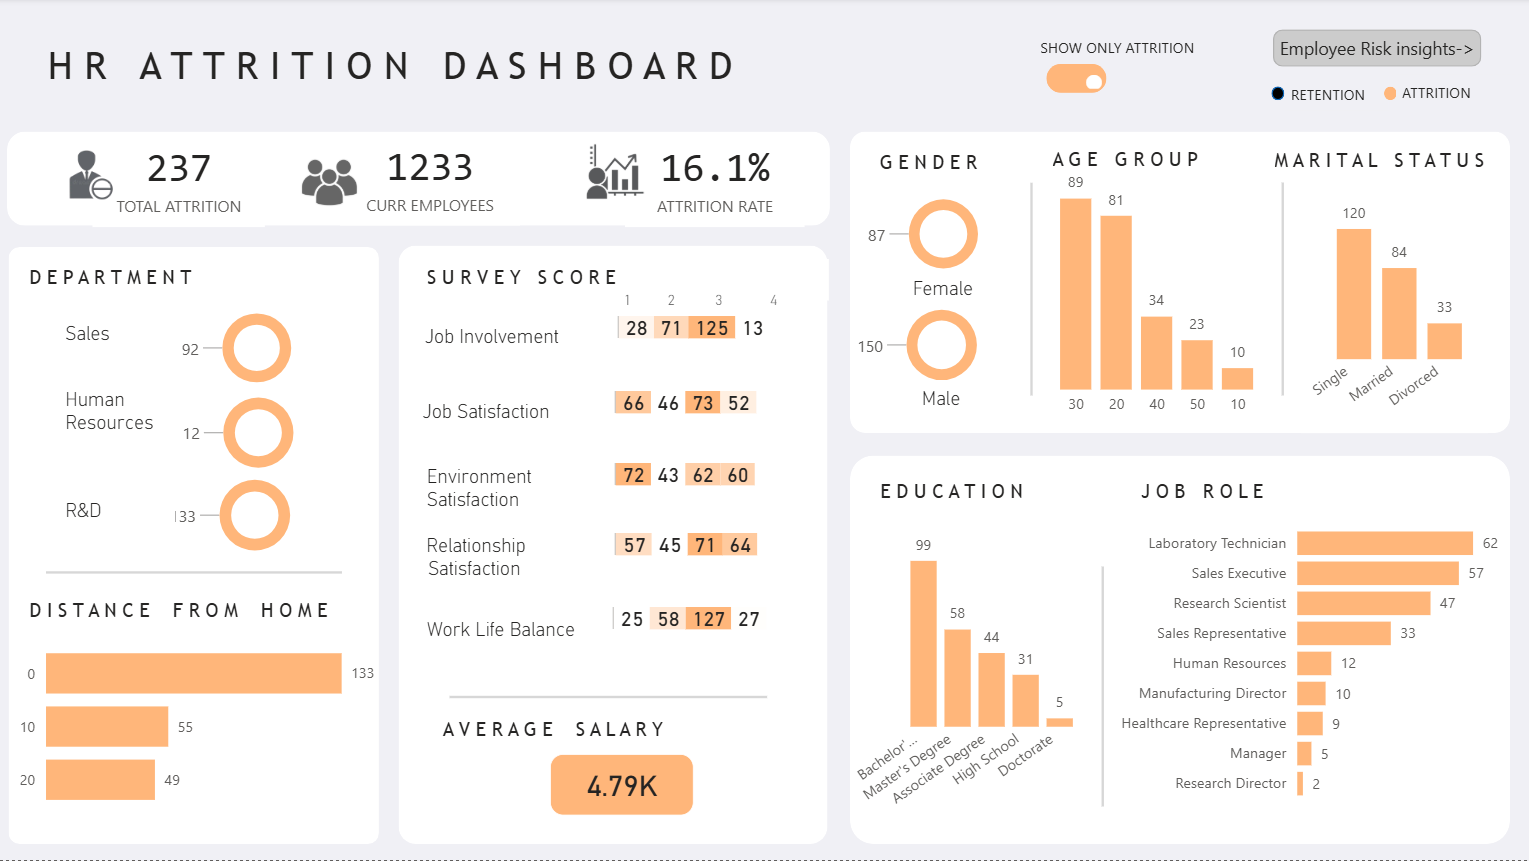

The page's visual inventory and layout, read from the dashboard file:
{"tool":"powerbi","page":{"name":" Overview","canvas":[1280,720],"ordinal":0},"visuals":[{"type":"group","id":"g1","title":"Group 1","box":[1064,63.9,215.5,30.1],"z":0},{"type":"shape","box":[1064,74,10.7,11.5],"z":0,"group":"g1"},{"type":"shape","box":[341.6,203.4,358.3,499.9],"z":0,"group":"g2"},{"type":"donutChart","fields":{"Category":["HR_Data.Attrition"],"Y":["CountNonNull(HR_Data.Employee_No)"]},"box":[147.7,243.1,126.5,85.2],"z":0,"group":"g3"},{"type":"textbox","box":[0,0,807.2,125.9],"z":1000},{"type":"textbox","box":[1075,65.1,86.7,28.9],"z":1000,"group":"g1"},{"type":"shape","box":[15.9,204.7,309.5,498.7],"z":1000,"group":"g2"},{"type":"donutChart","fields":{"Category":["HR_Data.Attrition"],"Y":["CountNonNull(HR_Data.Employee_No)"]},"box":[133.9,310.8,154.1,86.5],"z":1000,"group":"g3"},{"type":"textbox","box":[866.4,25.8,149.8,32.3],"z":2000},{"type":"shape","box":[1157.7,74,10.7,11.5],"z":2000,"group":"g1"},{"type":"donutChart","fields":{"Category":["HR_Data.Attrition"],"Y":["CountNonNull(HR_Data.Employee_No)"]},"box":[128.9,382.2,165.4,86.5],"z":2000,"group":"g3"},{"type":"shape","box":[715.3,386.7,553.9,316.3],"z":2000,"group":"g2"},{"type":"textbox","box":[1167.9,63.9,111.6,29.6],"z":3000,"group":"g1"},{"type":"group","id":"g2","title":"dashboard a","box":[14.2,98.1,1265.4,605.3],"z":3000},{"type":"shape","box":[14.2,107.7,687.4,78.7],"z":3000,"group":"g2"},{"type":"textbox","box":[58.2,260.8,96.4,195.4],"z":3000,"group":"g3"},{"type":"shape","box":[715.8,106.2,553.8,264.4],"z":4000,"group":"g2"},{"type":"bookmarkNavigator","box":[875.4,55.5,50.4,24.5],"z":5000},{"type":"card","fields":{"Values":["HR_Data.Attrition__Rate"]},"box":[85.4,110.7,143.8,77.2],"z":5000,"group":"g2"},{"type":"pageNavigator","box":[1064.5,25.7,174.1,31.8],"z":6000},{"type":"card","fields":{"Values":["HR_Data.CURR EMPLOYEES"]},"box":[292.8,109.2,149.9,77.2],"z":6000,"group":"g2"},{"type":"card","fields":{"Values":["HR_Data.ATTRITION RATE"]},"box":[530.5,110.7,149.9,77.2],"z":7000,"group":"g2"},{"type":"image","box":[486.6,109.2,71.2,68.1],"z":8000,"group":"g2"},{"type":"image","box":[35.4,103.2,98.4,92.4],"z":9000,"group":"g2"},{"type":"image","box":[248.9,113.8,69.7,72.7],"z":10000,"group":"g2"},{"type":"textbox","box":[28.4,214.7,265.6,35.1],"z":11000,"group":"g2"},{"type":"group","id":"g3","title":"Group 2","box":[58.2,243.1,236.8,223.1],"z":12000,"group":"g2"},{"type":"shape","box":[47.2,469.7,247.2,12.4],"z":13000,"group":"g2"},{"type":"textbox","box":[27.8,492.3,271,42.4],"z":14000,"group":"g2"},{"type":"clusteredBarChart","fields":{"Category":["HR_Data.DistanceFromHome (bins)"],"Series":["HR_Data.Attrition"],"Y":["CountNonNull(HR_Data.Employee_No)"]},"box":[15.9,512.9,310.7,177.9],"z":15000,"group":"g2"},{"type":"pivotTable","fields":{"Values":["CountNonNull(HR_Data.Employee_No)"],"Rows":["HR_Data.Attrition"],"Columns":["HR_Data.JobInvolvement"]},"box":[452.7,234.7,234.3,72.7],"z":16000,"group":"g2"},{"type":"pivotTable","fields":{"Values":["CountNonNull(HR_Data.Employee_No)"],"Rows":["HR_Data.Attrition"],"Columns":["HR_Data.JobSatisfaction"]},"box":[453.3,297,204.4,57.5],"z":17000,"group":"g2"},{"type":"pivotTable","fields":{"Values":["CountNonNull(HR_Data.Employee_No)"],"Rows":["HR_Data.Attrition"],"Columns":["HR_Data.RelationshipSatisfaction"]},"box":[453.3,416.6,215,57.5],"z":18000,"group":"g2"},{"type":"pivotTable","fields":{"Values":["CountNonNull(HR_Data.Employee_No)"],"Rows":["HR_Data.Attrition"],"Columns":["HR_Data.WorkLifeBalance"]},"box":[451.8,477.2,266.5,56],"z":19000,"group":"g2"},{"type":"textbox","box":[423,354.5,162,50],"z":20000,"group":"g2"},{"type":"pivotTable","fields":{"Values":["CountNonNull(HR_Data.Employee_No)"],"Rows":["HR_Data.Attrition"],"Columns":["HR_Data.RelationshipSatisfaction"]},"box":[402.6,410.1,285.7,87.7],"z":21000,"group":"g2"},{"type":"pivotTable","fields":{"Values":["CountNonNull(HR_Data.Employee_No)"],"Rows":["HR_Data.Attrition"],"Columns":["HR_Data.EnvironmentSatisfaction"]},"box":[403.7,346.7,306.8,85.8],"z":22000,"group":"g2"},{"type":"textbox","box":[359.4,380.3,162,50],"z":23000,"group":"g2"},{"type":"pivotTable","fields":{"Values":["CountNonNull(HR_Data.Employee_No)"],"Rows":["HR_Data.Attrition"],"Columns":["HR_Data.EnvironmentSatisfaction"]},"box":[453.3,354,245.3,57.5],"z":24000,"group":"g2"},{"type":"pivotTable","fields":{"Values":["CountNonNull(HR_Data.Employee_No)"],"Rows":["HR_Data.Attrition"],"Columns":["HR_Data.JobSatisfaction"]},"box":[399.8,289.6,291.9,82.7],"z":25000,"group":"g2"},{"type":"pivotTable","fields":{"Values":["CountNonNull(HR_Data.Employee_No)"],"Rows":["HR_Data.Attrition"],"Columns":["HR_Data.JobInvolvement"]},"box":[398.6,223.2,290.7,91.5],"z":26000,"group":"g2"},{"type":"textbox","box":[359.4,215.2,340.7,34.8],"z":27000,"group":"g2"},{"type":"textbox","box":[344.3,244,162,53],"z":28000,"group":"g2"},{"type":"textbox","box":[344.3,437.8,162,54.5],"z":29000,"group":"g2"},{"type":"pivotTable","fields":{"Values":["CountNonNull(HR_Data.Employee_No)"],"Rows":["HR_Data.Attrition"],"Columns":["HR_Data.WorkLifeBalance"]},"box":[402.6,471.5,295.7,82.7],"z":30000,"group":"g2"},{"type":"textbox","box":[342.8,306.1,178.7,74.2],"z":31000,"group":"g2"},{"type":"textbox","box":[359.4,507.5,145.4,48.5],"z":32000,"group":"g2"},{"type":"shape","box":[384.2,573.1,265.6,15],"z":33000,"group":"g2"},{"type":"textbox","box":[504.8,233.4,225.6,28.8],"z":34000,"group":"g2"},{"type":"textbox","box":[945.6,402.4,196.7,32.6],"z":35000,"group":"g2"},{"type":"barChart","fields":{"Category":["HR_Data.JobRole"],"Y":["CountNonNull(HR_Data.Employee_No)"],"Series":["HR_Data.Attrition"]},"box":[920.4,418.1,351.2,273.7],"z":36000,"group":"g2"},{"type":"textbox","box":[733.4,98.6,115.1,57.5],"z":37000,"group":"g2"},{"type":"donutChart","fields":{"Y":["CountNonNull(HR_Data.Employee_No)"],"Category":["HR_Data.Attrition"]},"box":[719.6,154.8,160.4,81.4],"z":38000,"group":"g2"},{"type":"textbox","box":[771,220.6,83.3,42.4],"z":39000,"group":"g2"},{"type":"donutChart","fields":{"Y":["CountNonNull(HR_Data.Employee_No)"],"Category":["HR_Data.Attrition"]},"box":[732.1,244.1,131.6,83.9],"z":40000,"group":"g2"},{"type":"textbox","box":[778.5,299.8,96.5,56.4],"z":41000,"group":"g2"},{"type":"shape","box":[859.9,148.8,16.3,189.2],"z":42000,"group":"g2"},{"type":"textbox","box":[882.7,98.1,141.7,52.9],"z":43000,"group":"g2"},{"type":"columnChart","fields":{"Category":["HR_Data.Age (bins)"],"Y":["CountNonNull(HR_Data.Employee_No)"],"Series":["HR_Data.Attrition"]},"box":[880.2,128.3,196.7,234.3],"z":44000,"group":"g2"},{"type":"shape","box":[1072.9,158.9,13.8,176.7],"z":45000,"group":"g2"},{"type":"columnChart","fields":{"Category":["HR_Data.MaritalStatus"],"Y":["CountNonNull(HR_Data.Employee_No)"],"Series":["HR_Data.Attrition"]},"box":[1098.4,140.6,140.3,226.8],"z":47000,"group":"g2"},{"type":"textbox","box":[719.6,400.1,214.2,37.6],"z":48000,"group":"g2"},{"type":"columnChart","fields":{"Category":["HR_Data.Education"],"Y":["CountNonNull(HR_Data.Employee_No)"],"Series":["HR_Data.Attrition"]},"box":[749.8,412.9,160.5,274.1],"z":49000,"group":"g2"},{"type":"shape","box":[917.9,431,15.1,234.7],"z":50000,"group":"g2"},{"type":"textbox","box":[359.2,574.3,283.2,51.4],"z":51000,"group":"g2"},{"type":"card","fields":{"Values":["Avg(HR_Data.MonthlyIncome)"]},"box":[395.5,630.7,109,51.4],"z":52000,"group":"g2"},{"type":"card","fields":{"Values":["Avg(HR_Data.MonthlyIncome)"]},"box":[529.6,630.7,120.3,51.4],"z":53000,"group":"g2"},{"type":"textbox","box":[1067.9,117,211.7,34],"z":53500,"group":"g2"}]}

Visuals, with their boxes in screenshot pixels (x1, y1, x2, y2), scaled from the page's 1280x720 canvas onto the 1529x861 screenshot:
"Group 1" group: l=1271, t=76, r=1528, b=112
shape: l=1271, t=88, r=1284, b=102
shape: l=408, t=243, r=836, b=841
donutChart - HR_Data.Attrition x CountNonNull(HR_Data.Employee_No): l=176, t=291, r=328, b=393
textbox: l=0, t=0, r=964, b=151
textbox: l=1284, t=78, r=1388, b=112
shape: l=19, t=245, r=389, b=841
donutChart - HR_Data.Attrition x CountNonNull(HR_Data.Employee_No): l=160, t=372, r=344, b=475
textbox: l=1035, t=31, r=1214, b=69
shape: l=1383, t=88, r=1396, b=102
donutChart - HR_Data.Attrition x CountNonNull(HR_Data.Employee_No): l=154, t=457, r=352, b=560
shape: l=854, t=462, r=1516, b=841
textbox: l=1395, t=76, r=1528, b=112
"dashboard a" group: l=17, t=117, r=1528, b=841
shape: l=17, t=129, r=838, b=223
textbox: l=70, t=312, r=185, b=546
shape: l=855, t=127, r=1517, b=443
bookmarkNavigator: l=1046, t=66, r=1106, b=96
card - HR_Data.Attrition__Rate: l=102, t=132, r=274, b=225
pageNavigator: l=1272, t=31, r=1480, b=69
card - HR_Data.CURR EMPLOYEES: l=350, t=131, r=529, b=223
card - HR_Data.ATTRITION RATE: l=634, t=132, r=813, b=225
image: l=581, t=131, r=666, b=212
image: l=42, t=123, r=160, b=234
image: l=297, t=136, r=381, b=223
textbox: l=34, t=257, r=351, b=299
"Group 2" group: l=70, t=291, r=352, b=557
shape: l=56, t=562, r=352, b=577
textbox: l=33, t=589, r=357, b=639
clusteredBarChart - HR_Data.DistanceFromHome (bins) x HR_Data.Attrition: l=19, t=613, r=390, b=826
pivotTable - CountNonNull(HR_Data.Employee_No) x HR_Data.Attrition: l=541, t=281, r=821, b=368
pivotTable - CountNonNull(HR_Data.Employee_No) x HR_Data.Attrition: l=541, t=355, r=786, b=424
pivotTable - CountNonNull(HR_Data.Employee_No) x HR_Data.Attrition: l=541, t=498, r=798, b=567
pivotTable - CountNonNull(HR_Data.Employee_No) x HR_Data.Attrition: l=540, t=571, r=858, b=638
textbox: l=505, t=424, r=699, b=484
pivotTable - CountNonNull(HR_Data.Employee_No) x HR_Data.Attrition: l=481, t=490, r=822, b=595
pivotTable - CountNonNull(HR_Data.Employee_No) x HR_Data.Attrition: l=482, t=415, r=849, b=517
textbox: l=429, t=455, r=623, b=515
pivotTable - CountNonNull(HR_Data.Employee_No) x HR_Data.Attrition: l=541, t=423, r=834, b=492
pivotTable - CountNonNull(HR_Data.Employee_No) x HR_Data.Attrition: l=478, t=346, r=826, b=445
pivotTable - CountNonNull(HR_Data.Employee_No) x HR_Data.Attrition: l=476, t=267, r=823, b=376
textbox: l=429, t=257, r=836, b=299
textbox: l=411, t=292, r=605, b=355
textbox: l=411, t=524, r=605, b=589
pivotTable - CountNonNull(HR_Data.Employee_No) x HR_Data.Attrition: l=481, t=564, r=834, b=663
textbox: l=409, t=366, r=623, b=455
textbox: l=429, t=607, r=603, b=665
shape: l=459, t=685, r=776, b=703
textbox: l=603, t=279, r=872, b=314
textbox: l=1130, t=481, r=1365, b=520
barChart - HR_Data.JobRole x CountNonNull(HR_Data.Employee_No): l=1099, t=500, r=1519, b=827
textbox: l=876, t=118, r=1014, b=187
donutChart - CountNonNull(HR_Data.Employee_No) x HR_Data.Attrition: l=860, t=185, r=1051, b=282
textbox: l=921, t=264, r=1020, b=315
donutChart - CountNonNull(HR_Data.Employee_No) x HR_Data.Attrition: l=875, t=292, r=1032, b=392
textbox: l=930, t=359, r=1045, b=426
shape: l=1027, t=178, r=1047, b=404
textbox: l=1054, t=117, r=1224, b=181
columnChart - HR_Data.Age (bins) x CountNonNull(HR_Data.Employee_No): l=1051, t=153, r=1286, b=434
shape: l=1282, t=190, r=1298, b=401
columnChart - HR_Data.MaritalStatus x CountNonNull(HR_Data.Employee_No): l=1312, t=168, r=1480, b=439
textbox: l=860, t=478, r=1115, b=523
columnChart - HR_Data.Education x CountNonNull(HR_Data.Employee_No): l=896, t=494, r=1087, b=822
shape: l=1096, t=515, r=1114, b=796
textbox: l=429, t=687, r=767, b=748
card - Avg(HR_Data.MonthlyIncome): l=472, t=754, r=603, b=816
card - Avg(HR_Data.MonthlyIncome): l=633, t=754, r=776, b=816
textbox: l=1276, t=140, r=1528, b=181
